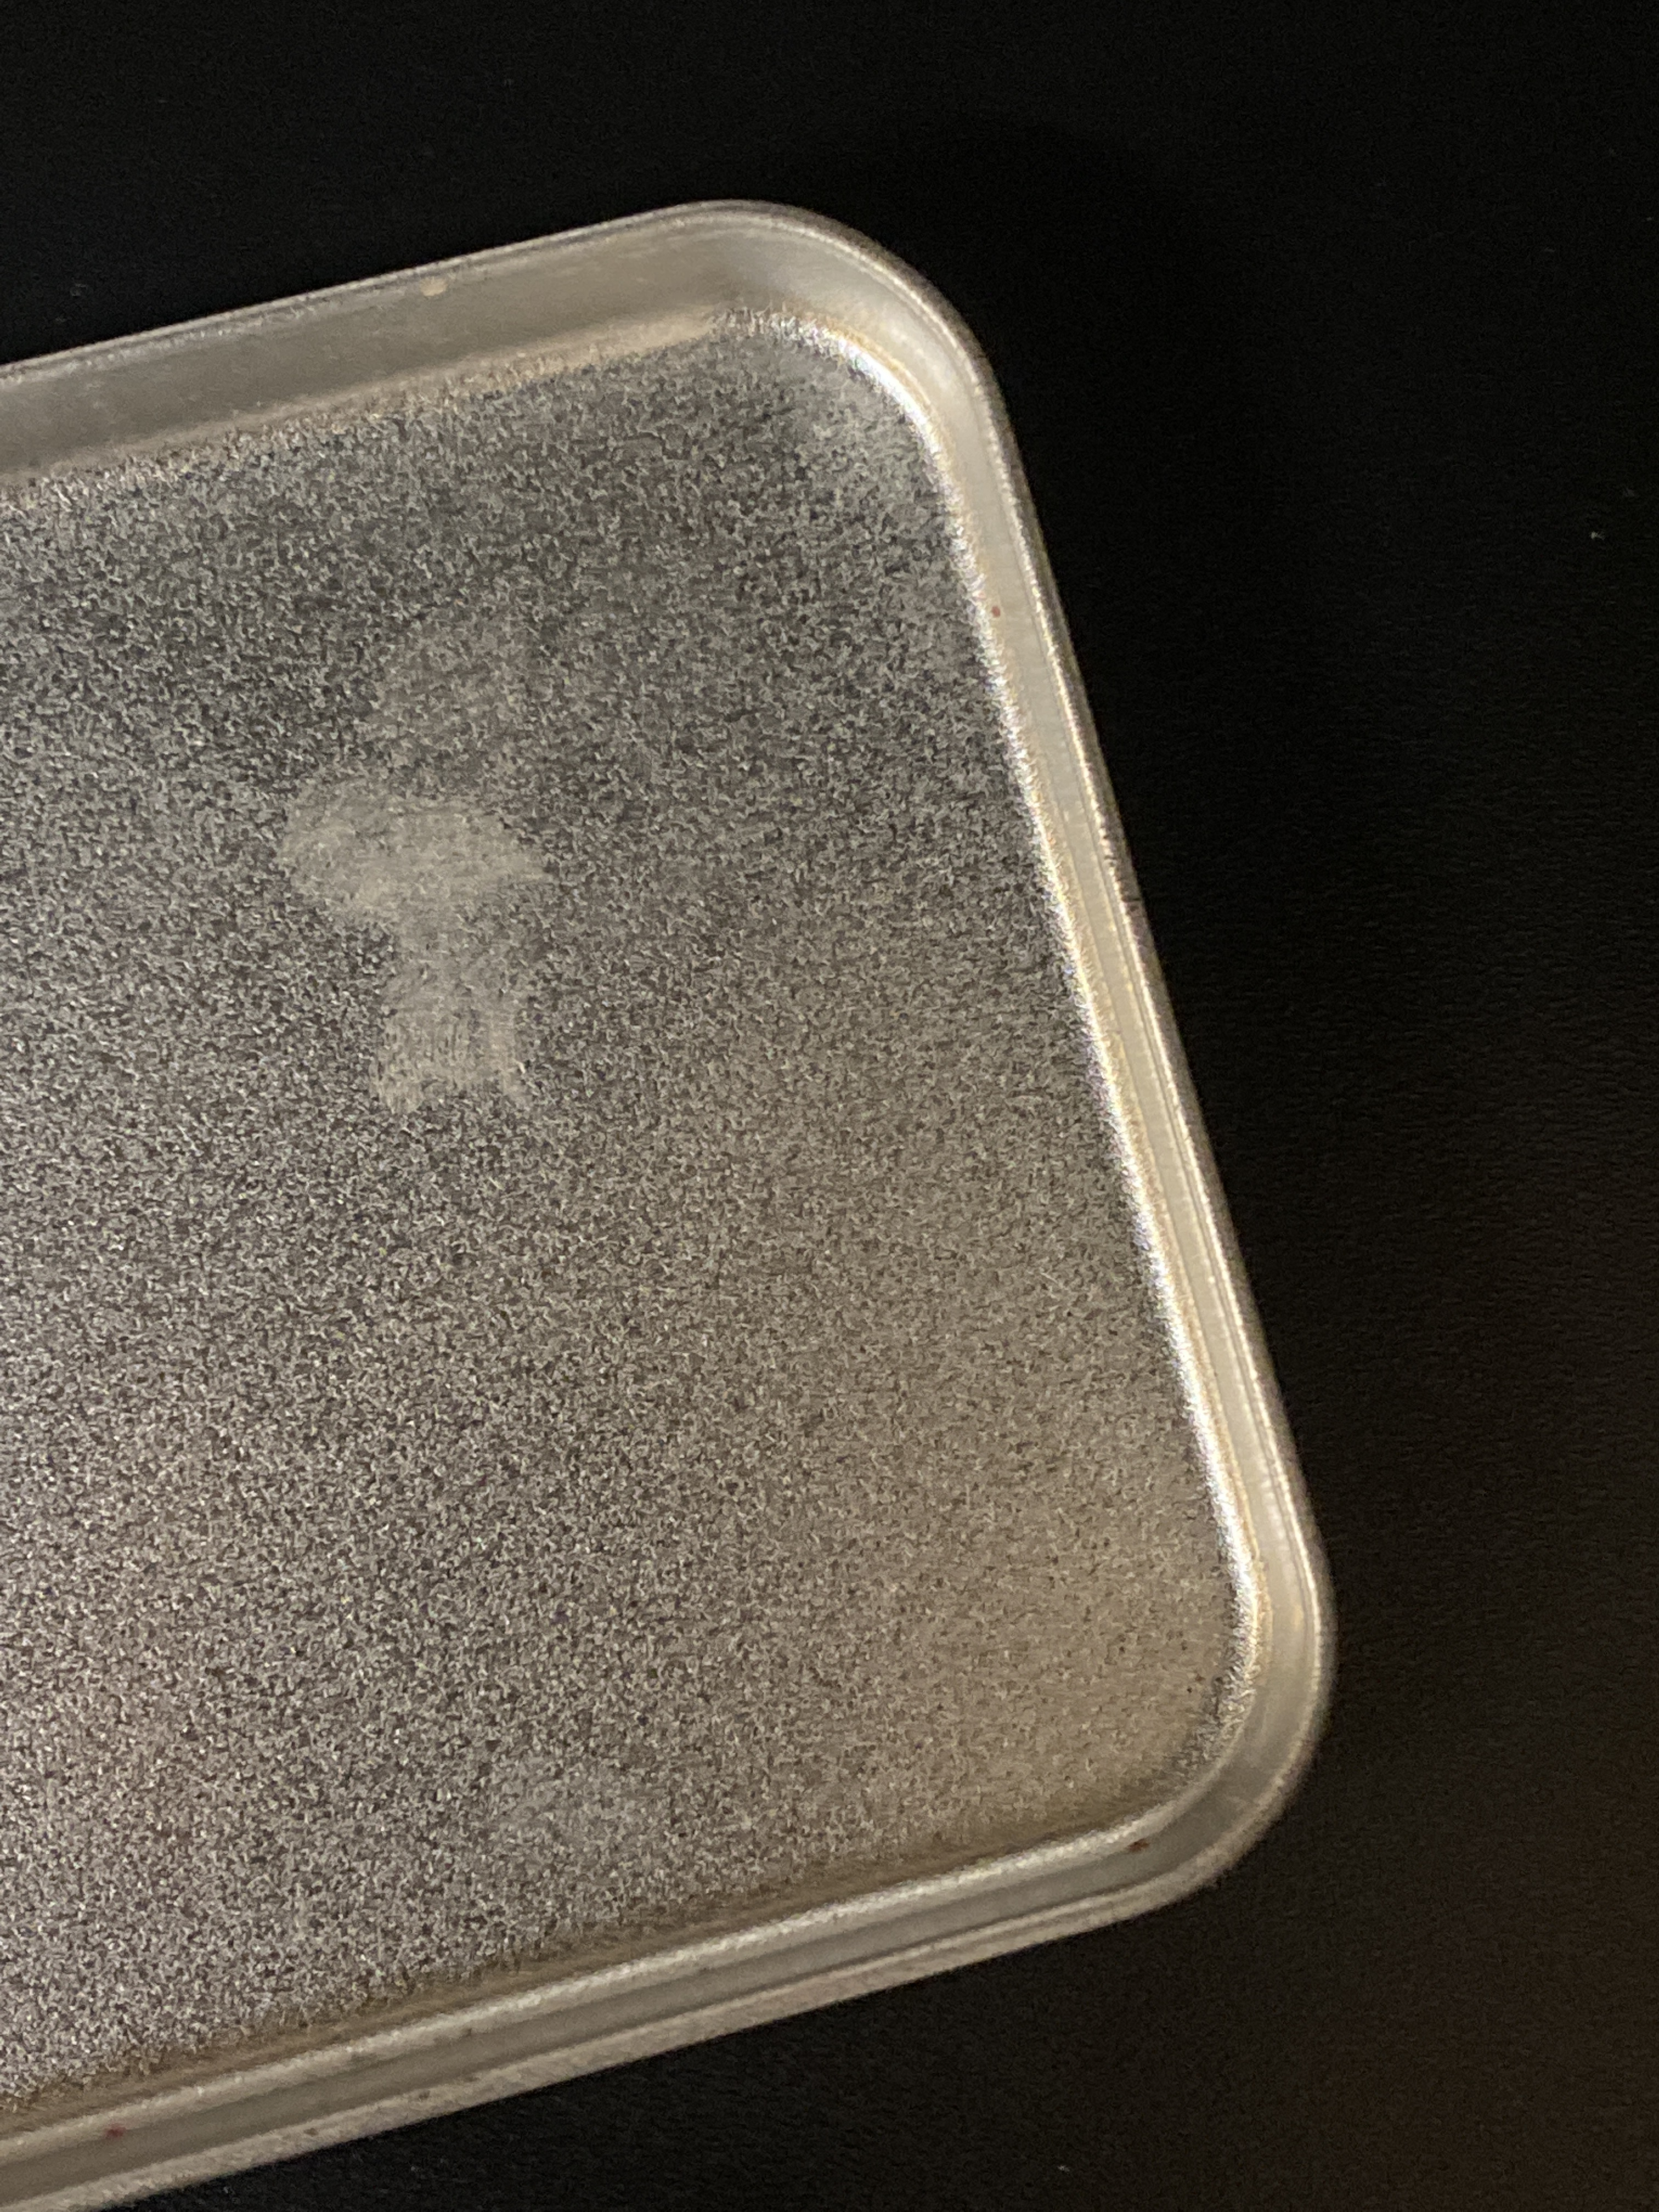metal: (0, 195, 1375, 2198)
